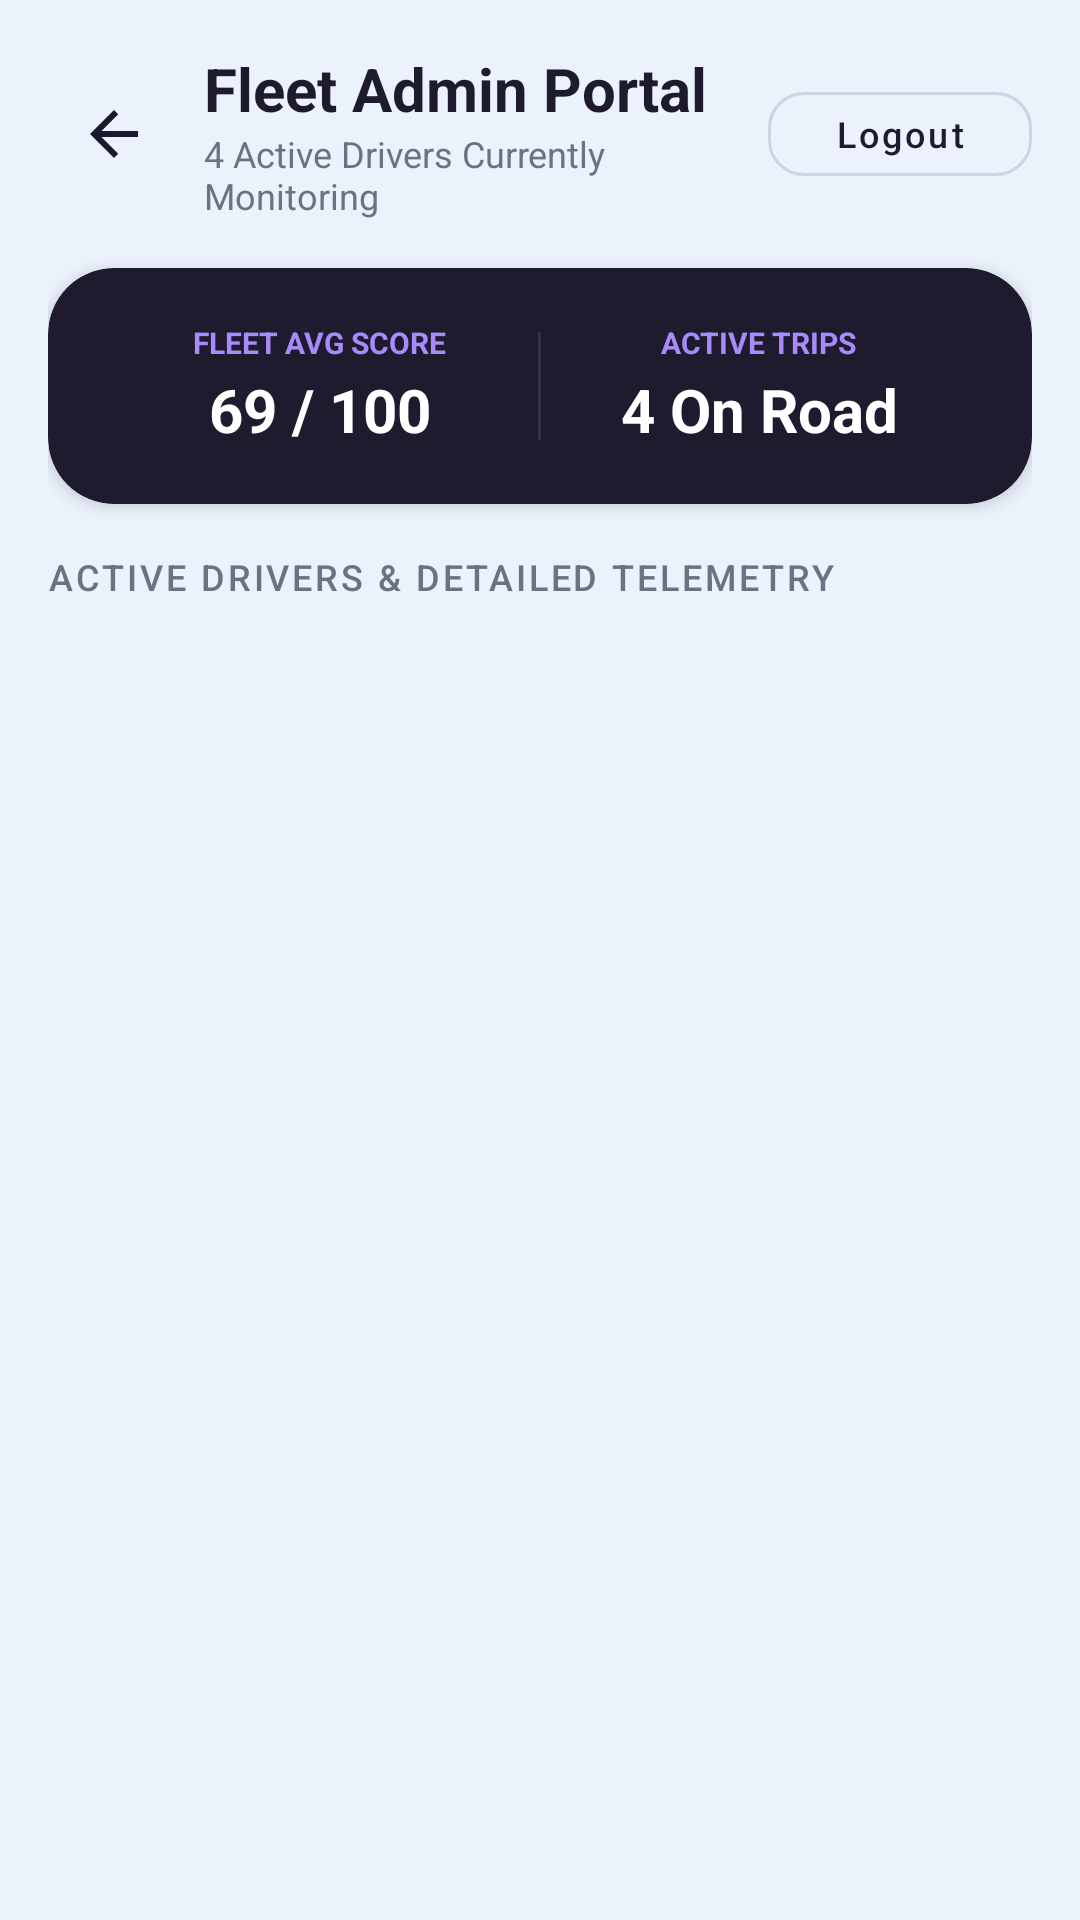

Icons on this 1080*1920 Android screen, each with the point to tap as (x=x, y=y):
Back: (x=114, y=134)
